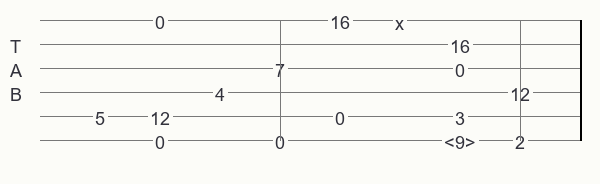0: (155, 12, 169, 29), (155, 132, 169, 149), (275, 132, 289, 149), (335, 108, 349, 125), (455, 60, 469, 77)
12: (150, 108, 174, 125), (510, 84, 534, 101)
16: (330, 12, 354, 29), (450, 36, 474, 53)
2: (515, 132, 529, 149)
3: (455, 108, 469, 125)
4: (215, 84, 229, 101)
5: (95, 108, 109, 125)
7: (275, 60, 289, 77)
harmonic: (444, 132, 480, 149)
x: (395, 13, 408, 27)
